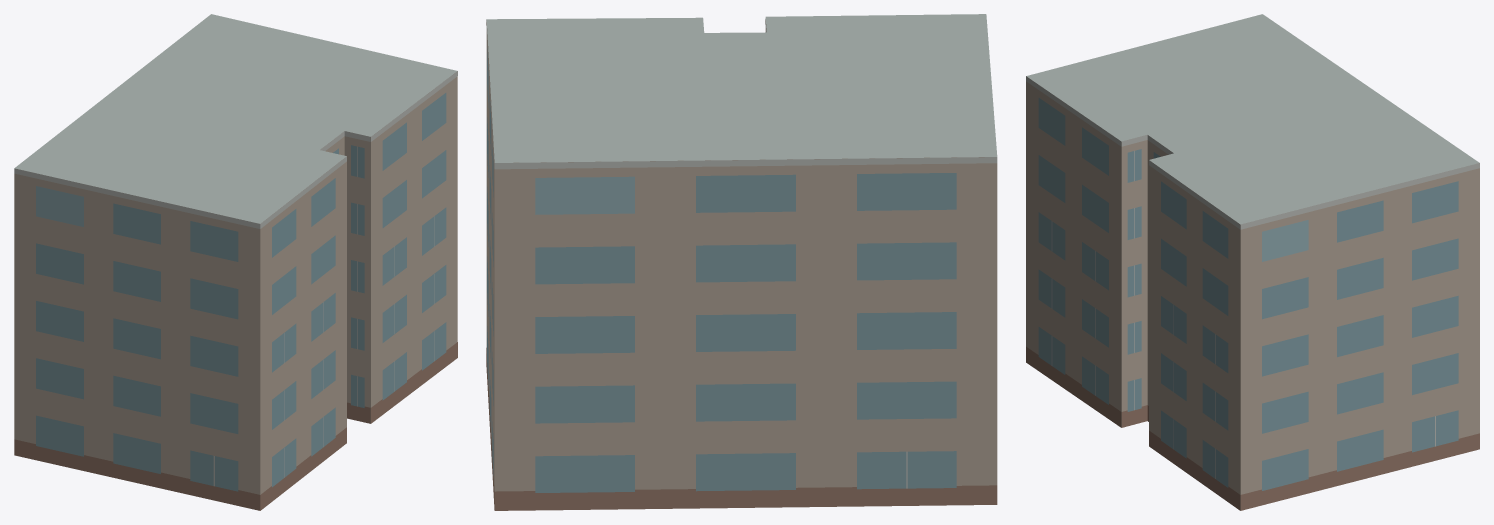
File: survey-upis-32713749.glb
The picture shows the model from 3 angles, left to right: view 1: azimuth 30°, elevation 25°; view 2: azimuth 150°, elevation 25°; view 3: azimuth 270°, elevation 25°; orthographic projection. The views are drawn at different scales.
Visible parts, largest first — view 1: survey-upis-32713749.tmp; view 2: survey-upis-32713749.tmp; view 3: survey-upis-32713749.tmp.
Boxes of the visible parts, box(x1,y1,x2,y2) form: survey-upis-32713749.tmp: box(14, 14, 457, 510); survey-upis-32713749.tmp: box(486, 14, 997, 510); survey-upis-32713749.tmp: box(1026, 14, 1479, 510).
Size of the model in its own units: 21.14 by 13.4 by 19.25.
